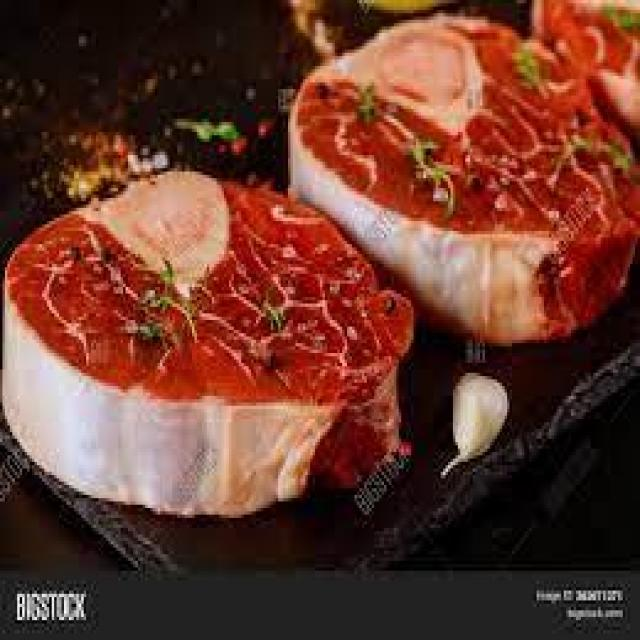beef: (3, 171, 425, 513)
